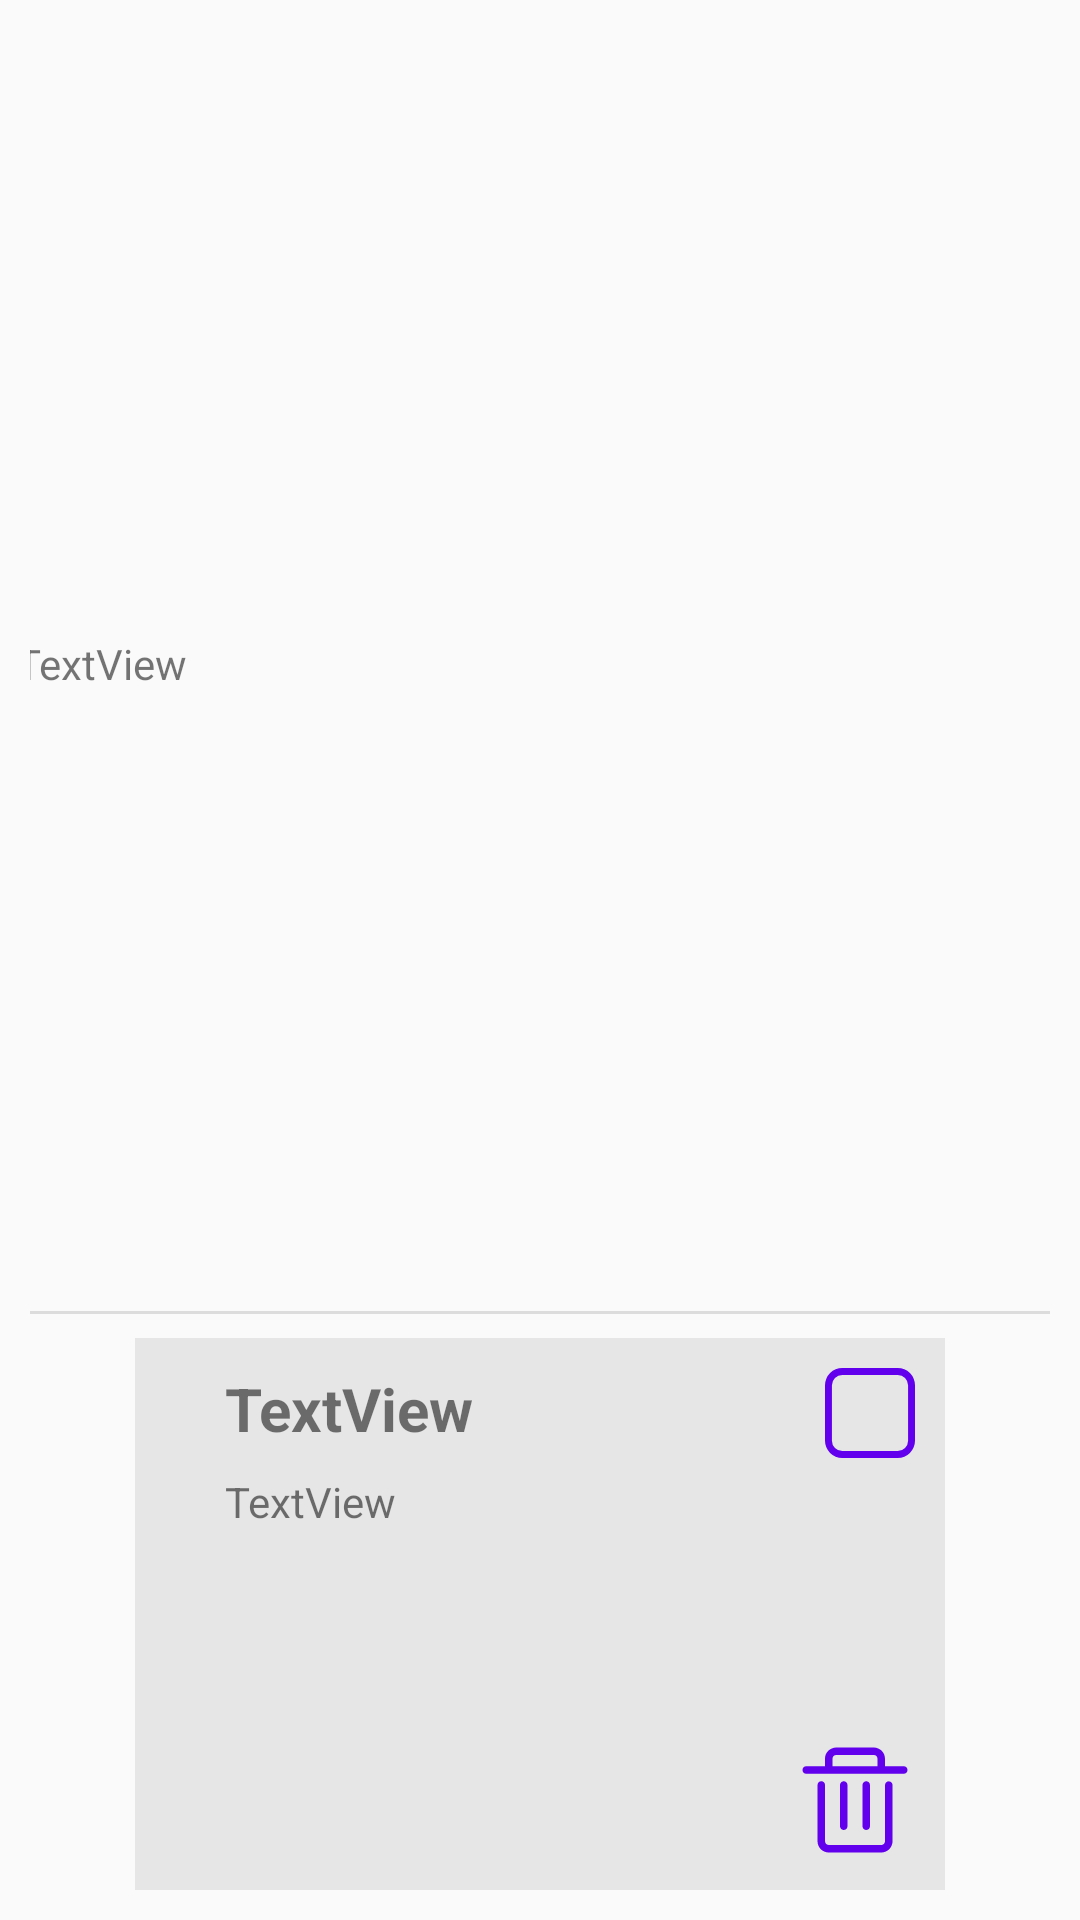

Screen size 1080*1920. Icon name, then its center in pixels as (x,y):
delete: (855,1800)
